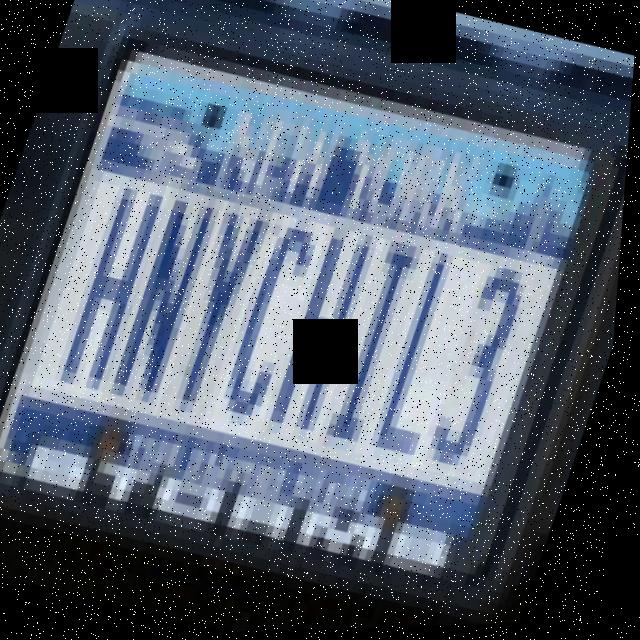3: (423, 254, 550, 480)
C: (213, 205, 337, 445)
H: (264, 218, 390, 449), (55, 167, 177, 400)
I: (320, 227, 443, 467)
L: (363, 240, 497, 484)
N: (105, 180, 232, 417)
Y: (160, 194, 280, 429)
